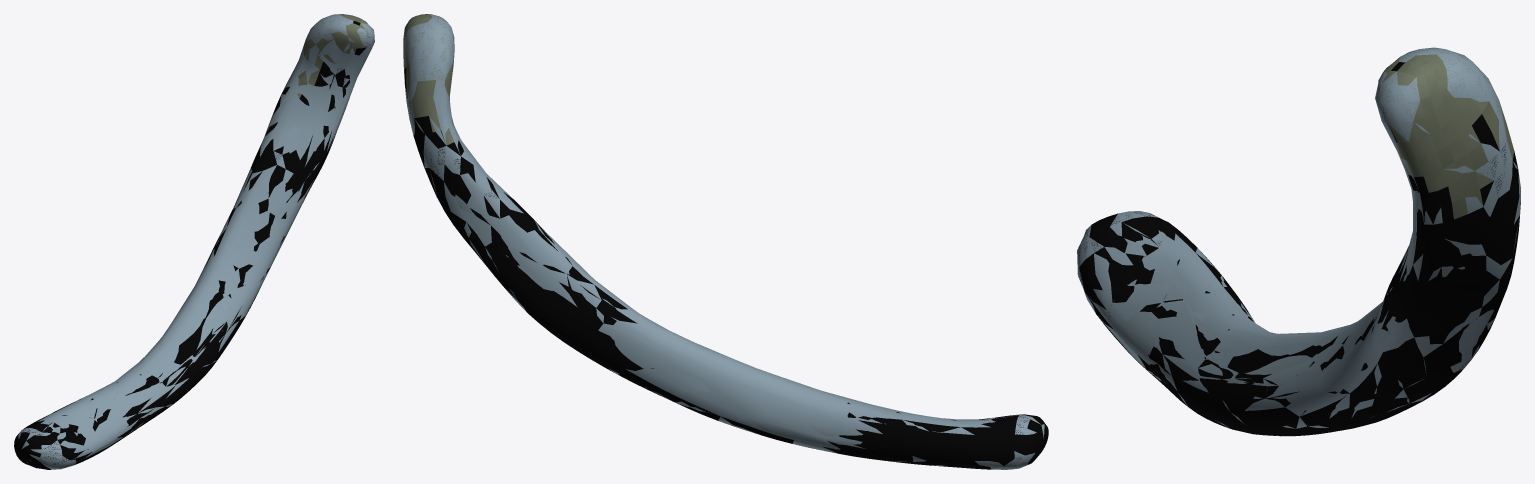
The picture shows the model from 3 angles, left to right: view 1: azimuth 30°, elevation 25°; view 2: azimuth 150°, elevation 25°; view 3: azimuth 270°, elevation 25°; orthographic projection. The views are drawn at different scales.
Visible parts, largest first — view 1: CC L05, CC L05 low, CC L05 high; view 2: CC L05 high, CC L05, CC L05 low; view 3: CC L05 high, CC L05, CC L05 low.
Part boxes in pixels (x1,y1,x2,y2): CC L05: [14, 14, 374, 469]; CC L05 low: [41, 47, 362, 454]; CC L05 high: [14, 14, 374, 469]; CC L05 high: [403, 14, 1048, 469]; CC L05: [404, 14, 1044, 469]; CC L05 low: [437, 86, 996, 449]; CC L05 high: [1077, 48, 1520, 436]; CC L05: [1077, 47, 1520, 436]; CC L05 low: [1105, 163, 1475, 402].
Bounding box in the file's own units: 11.25 × 7.85 × 5.13.
